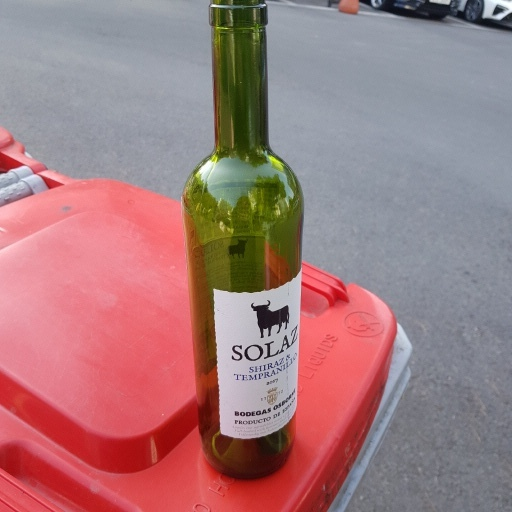Glass_2: (184, 2, 309, 479)
